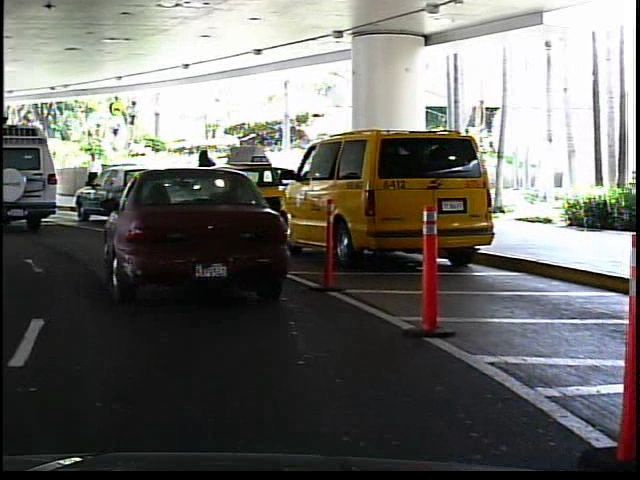person: (193, 144, 225, 208), (228, 140, 254, 207), (82, 147, 106, 201), (17, 157, 37, 197)
